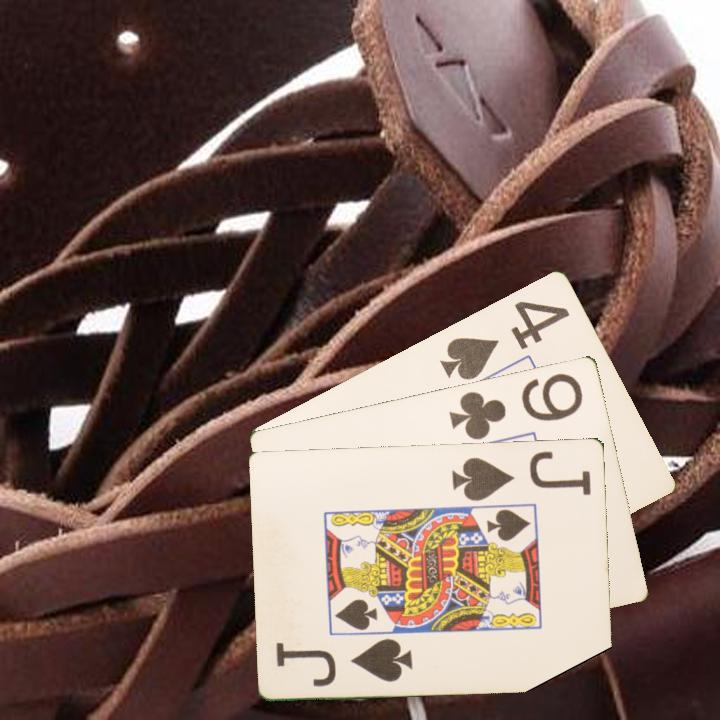4s: (437, 296, 573, 383)
9c: (446, 369, 586, 443)
Js: (449, 447, 594, 504), (273, 634, 416, 689)
